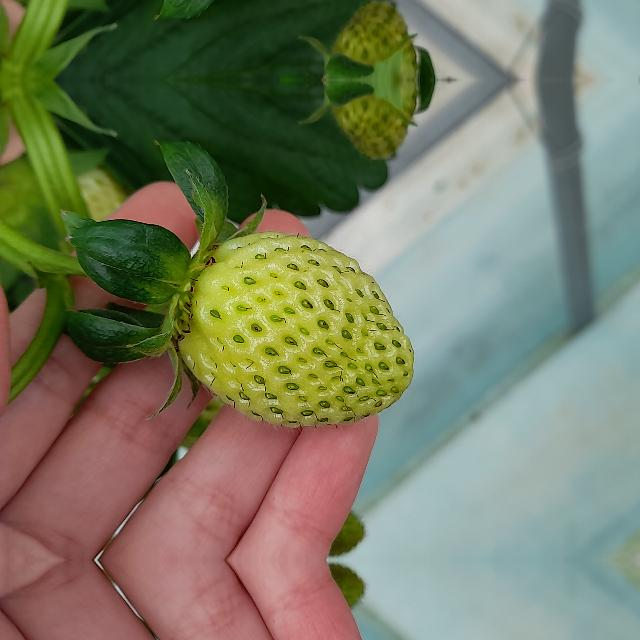Health_25: (176, 231, 414, 429)
